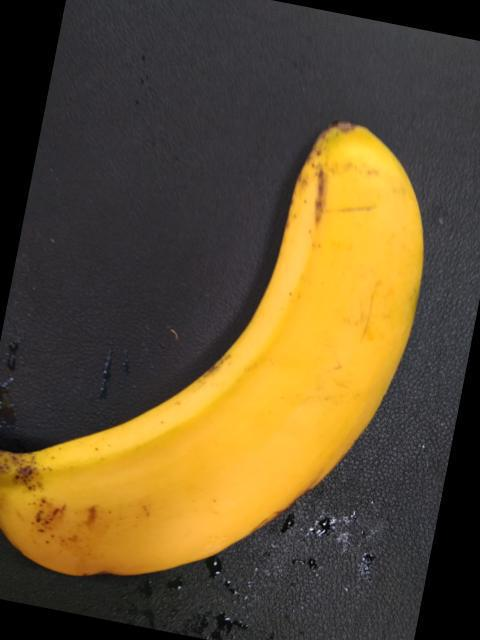freshripe: (0, 122, 428, 626)
